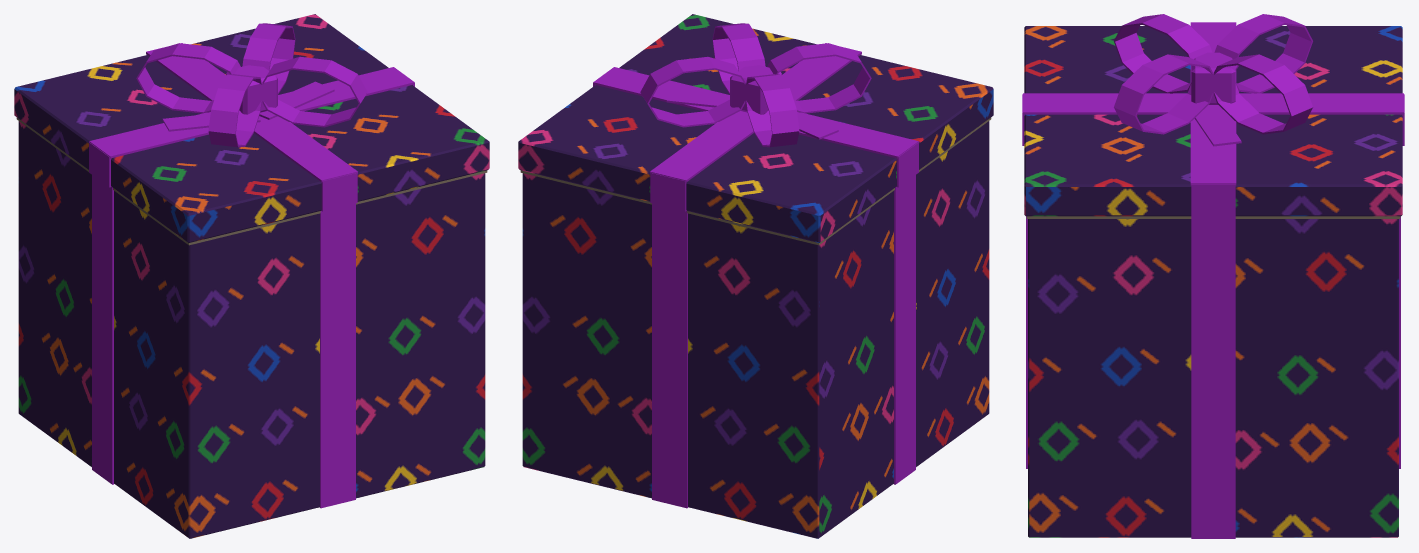
Rendered from party_gift_arcade.glb.
3 renders of one model, left to right at view 1: azimuth 30°, elevation 25°; view 2: azimuth 150°, elevation 25°; view 3: azimuth 270°, elevation 25°, orthographic. The views are drawn at different scales.
Parts seen in each view (by area): view 1: party_gift_arcade; view 2: party_gift_arcade; view 3: party_gift_arcade.
Part boxes in pixels (x1=…): party_gift_arcade: x1=14, y1=14, x2=489, y2=538; party_gift_arcade: x1=518, y1=14, x2=993, y2=538; party_gift_arcade: x1=1022, y1=14, x2=1404, y2=538.
Size of the model in its own units: 0.303 by 0.3634 by 0.303.
Materials: 3 (1 with a texture image).
